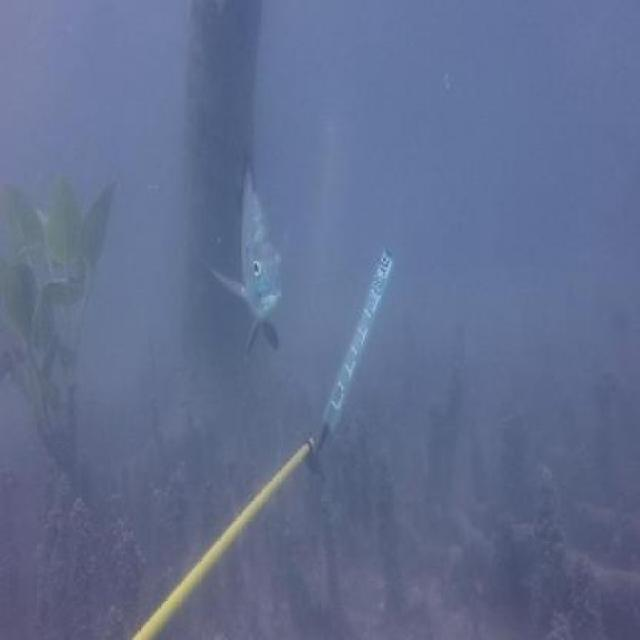acanthopagrus_palmaris: (214, 131, 292, 378)
